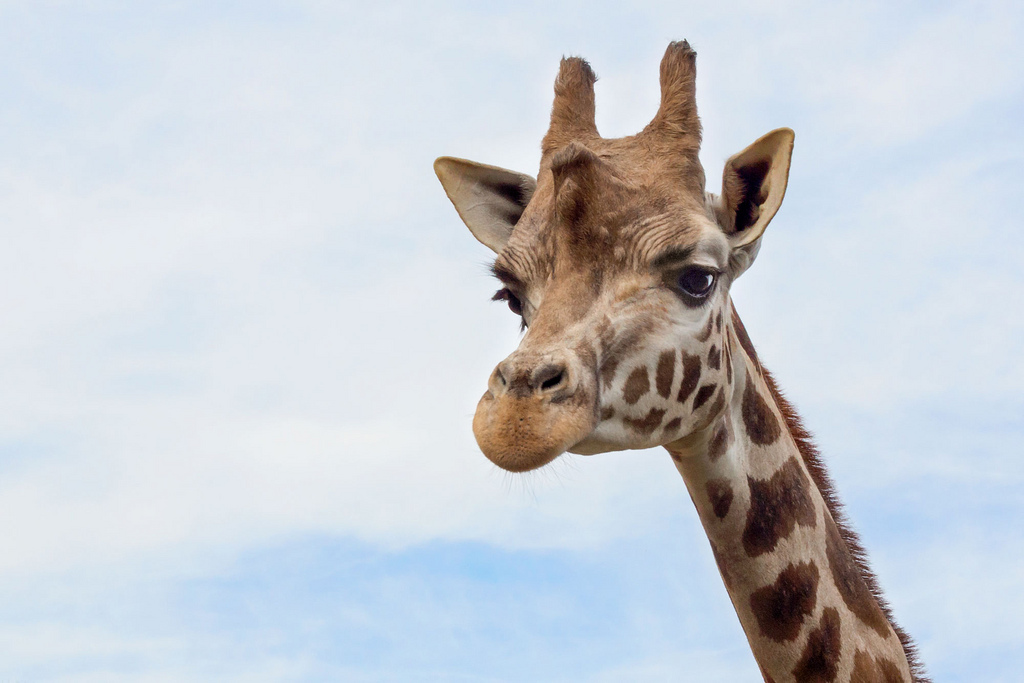giraffe: (417, 10, 935, 675)
